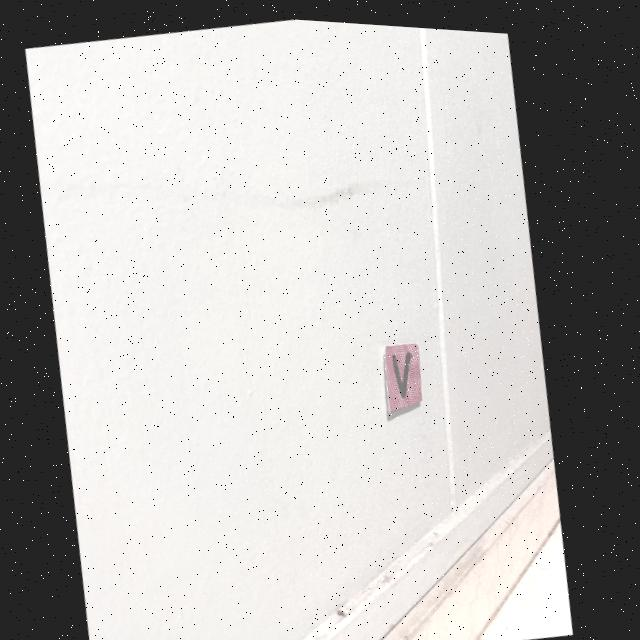V: (398, 346, 416, 392)
